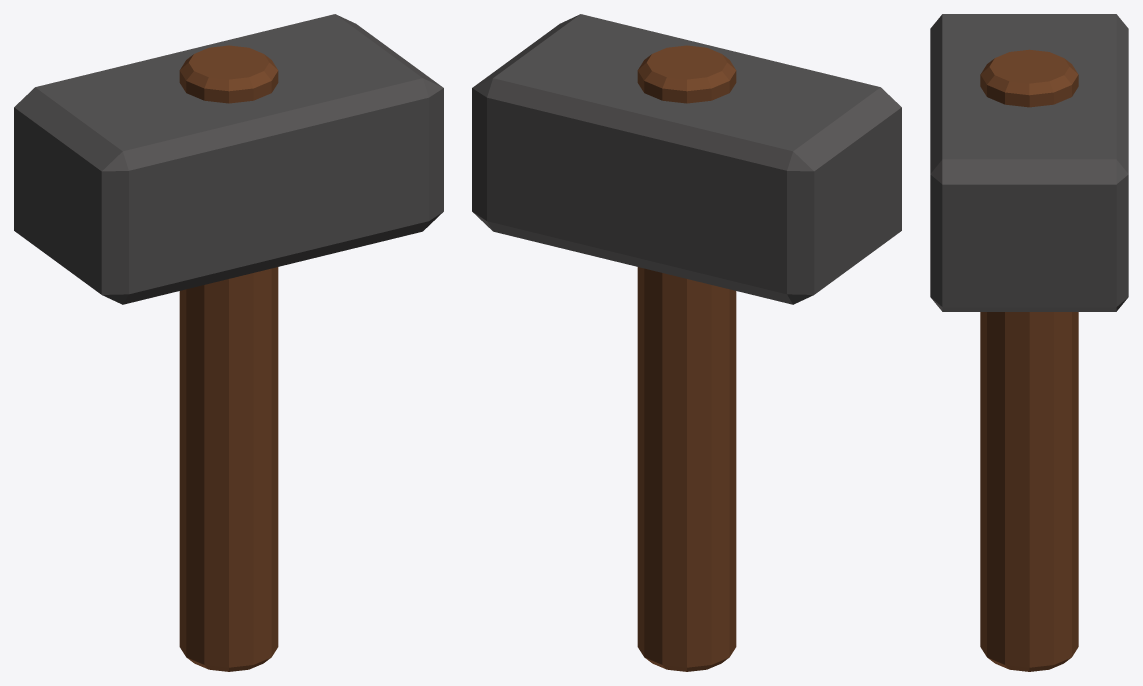
File: Hammer_1.fbx
The picture shows the model from 3 angles, left to right: view 1: azimuth 30°, elevation 25°; view 2: azimuth 150°, elevation 25°; view 3: azimuth 270°, elevation 25°; orthographic projection.
Visible parts, largest first — view 1: Hammer_1; view 2: Hammer_1; view 3: Hammer_1.
Part boxes in pixels (x1,y1,x2,y2): Hammer_1: (14, 14, 443, 671); Hammer_1: (472, 14, 901, 671); Hammer_1: (930, 14, 1128, 671).
Bounding box in the file's own units: 26.51 × 43.87 × 13.41.
